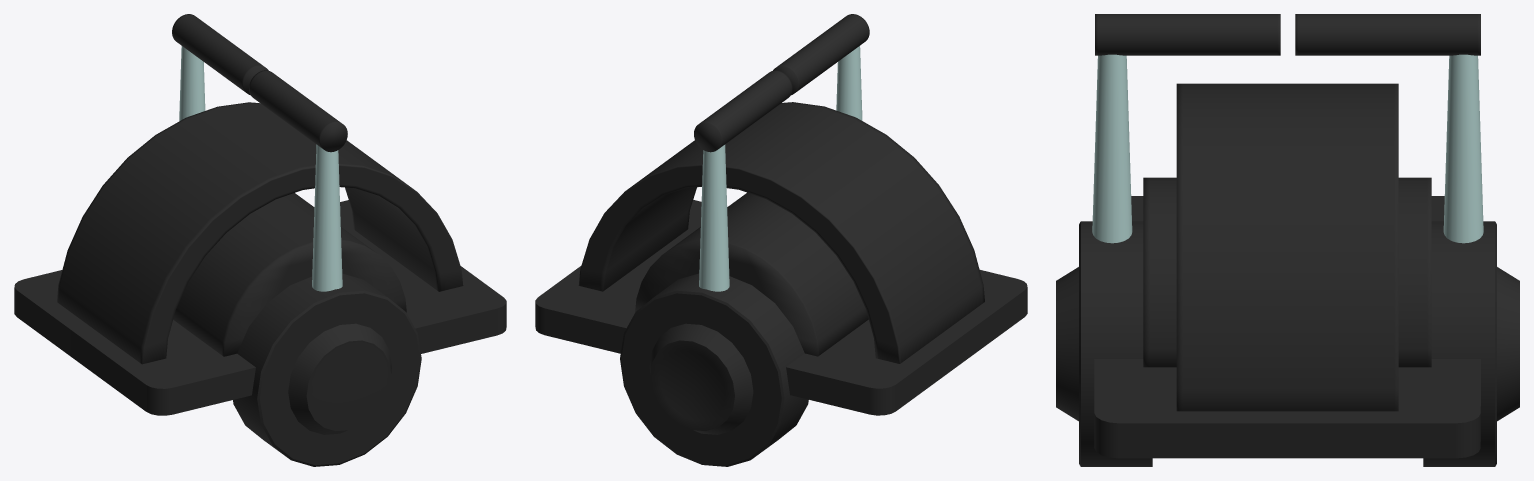
Rendered from JoystickBuque.fbx.
3 renders of one model, left to right at view 1: azimuth 30°, elevation 25°; view 2: azimuth 150°, elevation 25°; view 3: azimuth 270°, elevation 25°, orthographic. The views are drawn at different scales.
Visible parts, largest first — view 1: JoystickPlate, Joystick.001; view 2: JoystickPlate, Joystick.001; view 3: JoystickPlate, Joystick.001.
Boxes of the visible parts, bbox=[...] form: JoystickPlate: bbox=[14, 102, 506, 415]; Joystick.001: bbox=[172, 14, 421, 466]; JoystickPlate: bbox=[535, 102, 1027, 415]; Joystick.001: bbox=[620, 14, 869, 466]; JoystickPlate: bbox=[1094, 83, 1480, 458]; Joystick.001: bbox=[1056, 14, 1519, 466].
Size of the model in its own units: 17.77 by 16.04 by 15.31.
